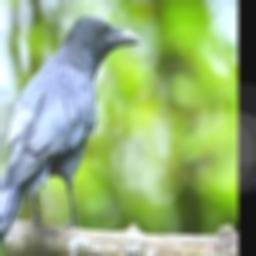Crow: (0, 15, 140, 246)
